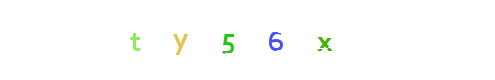5: (207, 0, 287, 80)
6: (229, 0, 309, 80)
T: (140, 0, 220, 80)
X: (235, 0, 315, 80)
Y: (141, 0, 221, 80)
